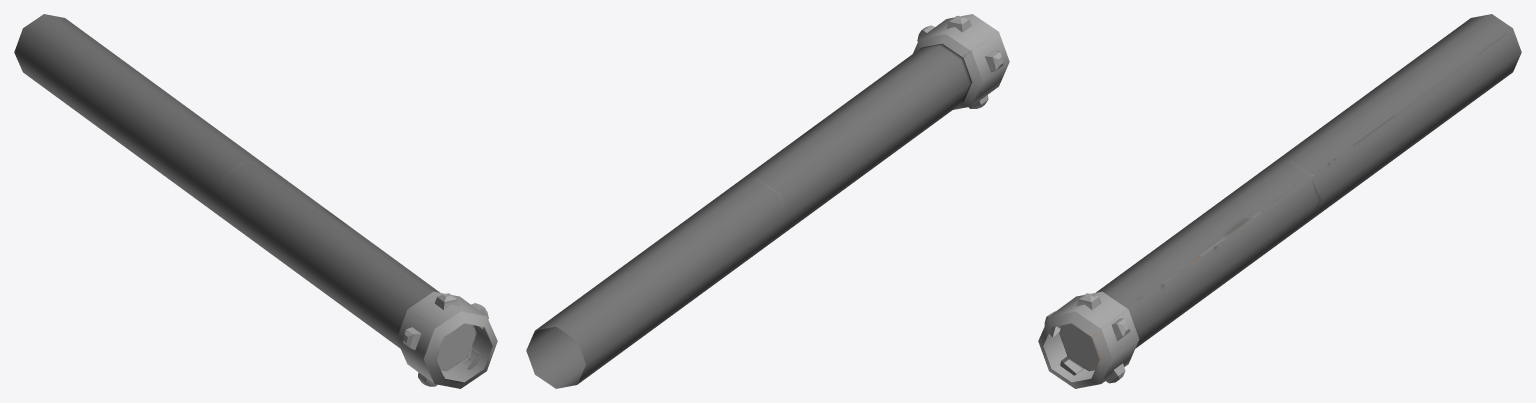
Rendered from PipeStraight.obj.
3 renders of one model, left to right at view 1: azimuth 30°, elevation 25°; view 2: azimuth 150°, elevation 25°; view 3: azimuth 330°, elevation 25°, orthographic.
Parts seen in each view (by area): view 1: PipeStraight; view 2: PipeStraight; view 3: PipeStraight.
Part boxes in pixels (left/top/right/bottom): PipeStraight: left=14, top=14, right=497, bottom=388; PipeStraight: left=526, top=14, right=1009, bottom=388; PipeStraight: left=1038, top=14, right=1521, bottom=388.
Size of the model in its own units: 0.3277 by 0.3307 by 2.94.
